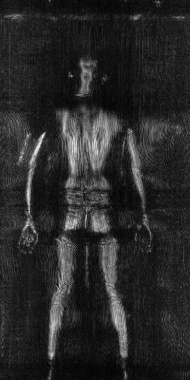gun: (18, 130, 33, 168)
